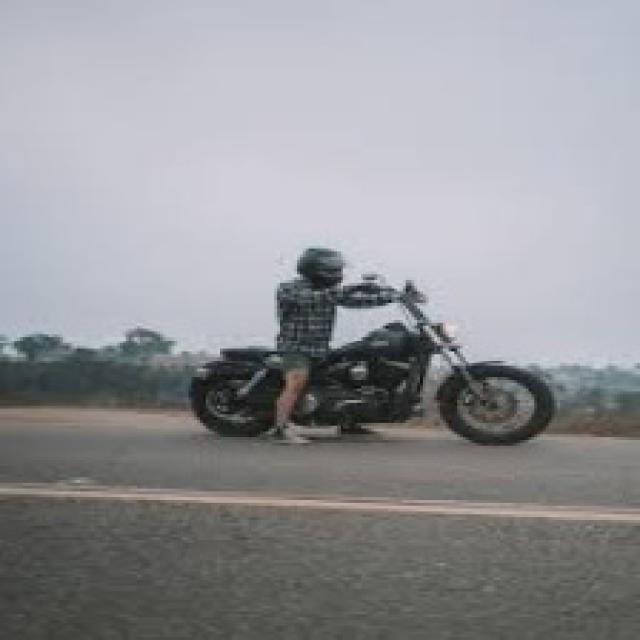bike: (160, 296, 595, 454)
